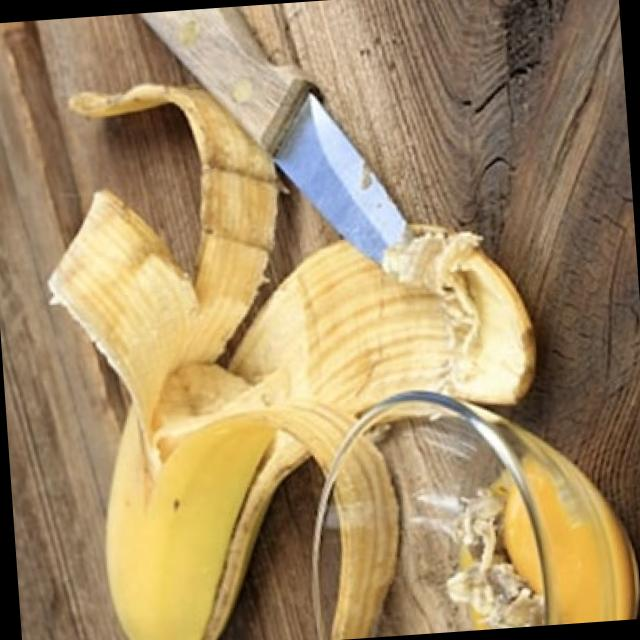banana_peel: (38, 61, 541, 640)
glass: (277, 365, 640, 640)
